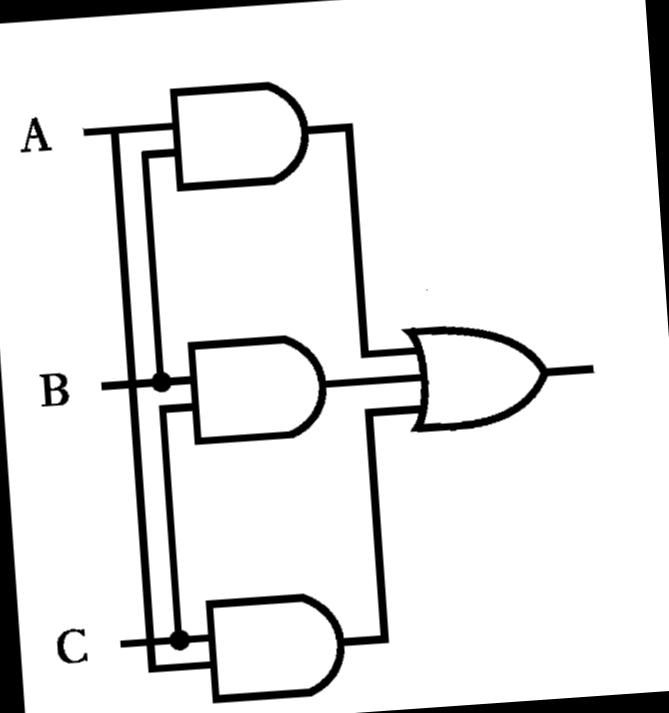and: (148, 58, 334, 210), (168, 315, 352, 458), (190, 572, 367, 713)
or: (383, 296, 571, 454)
